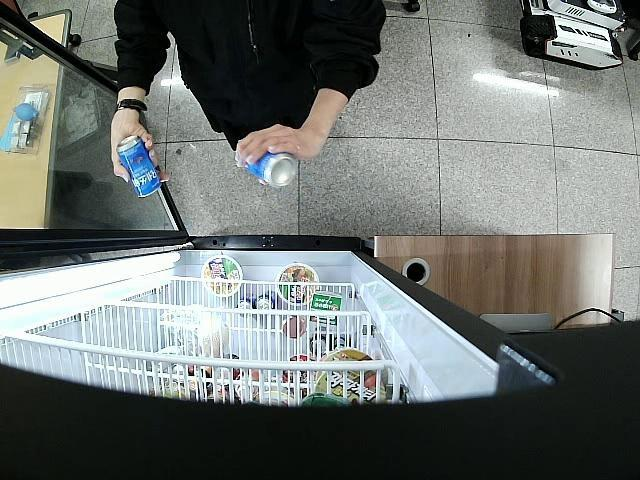15_letsbe: (116, 134, 162, 198), (244, 152, 297, 188)
